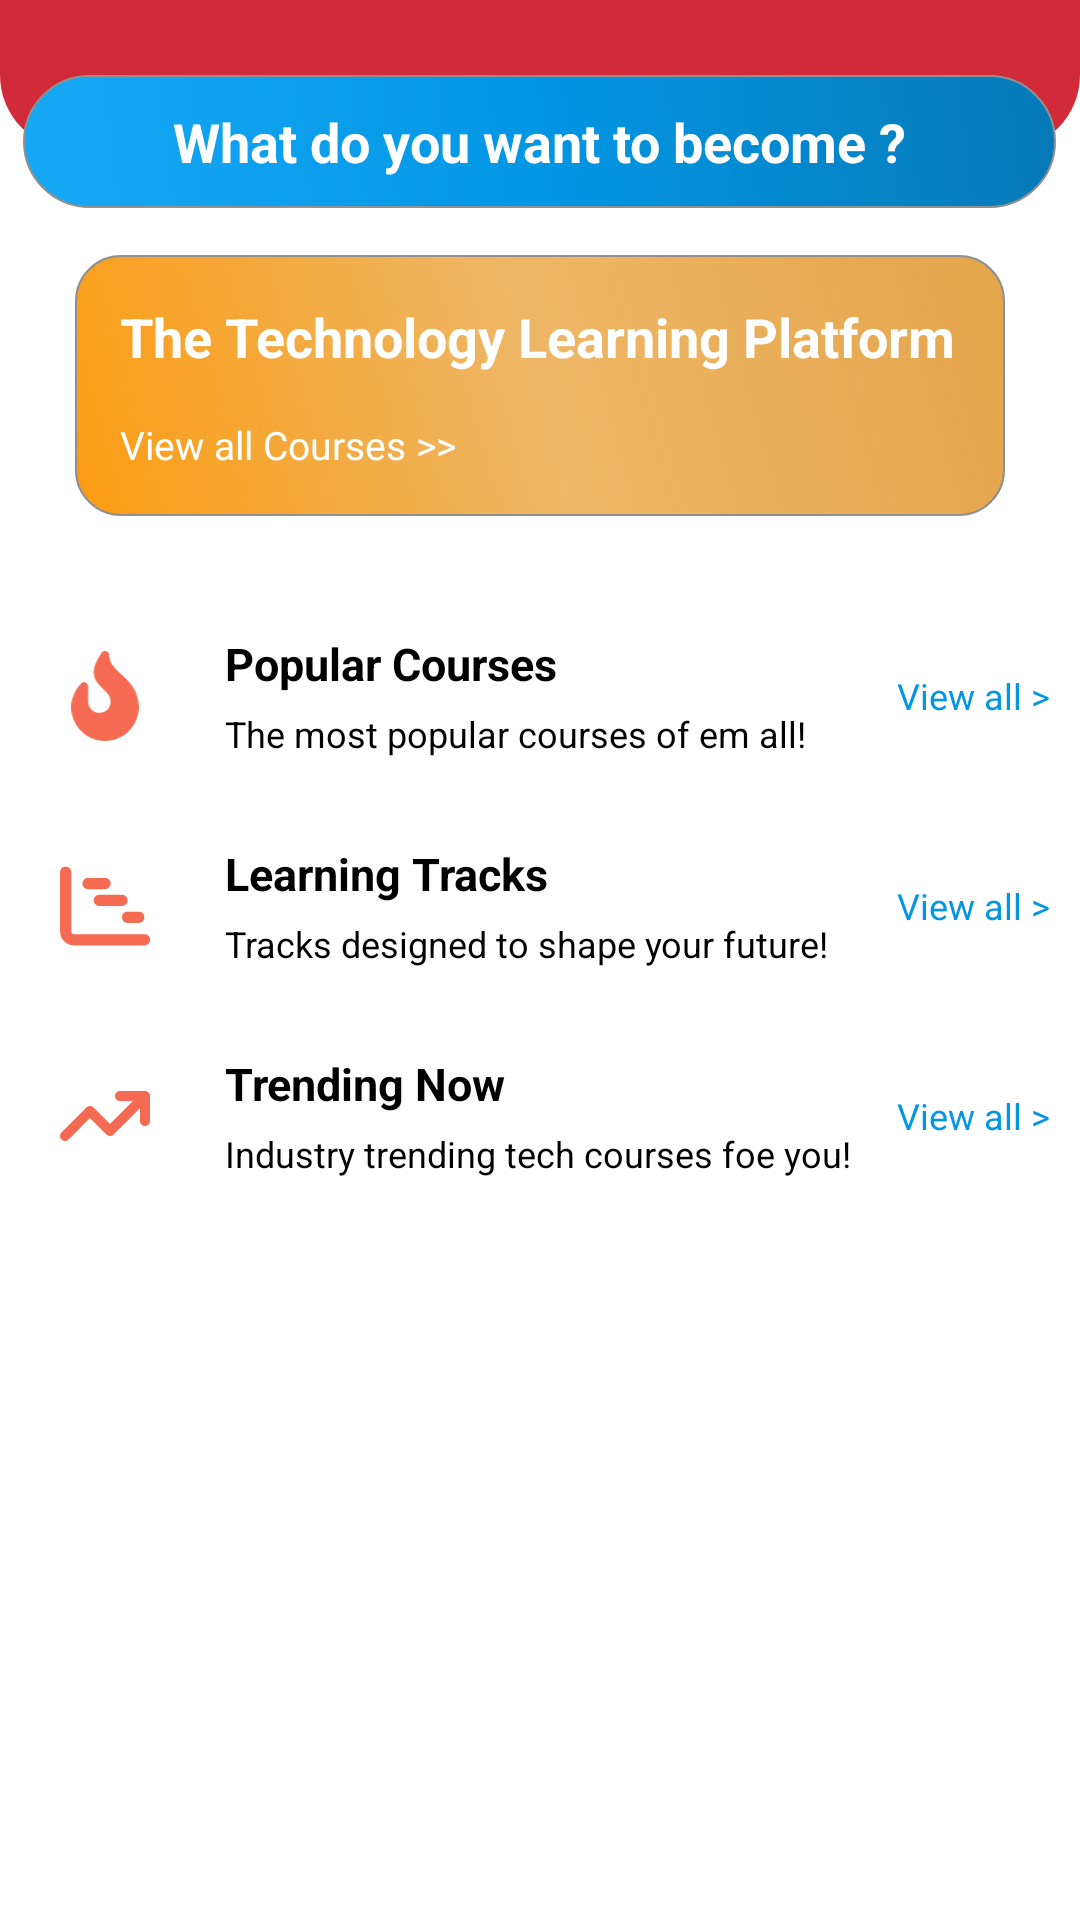

Locate icon controls on the screen. Image size 1080×1920, boxes as (x1, y1, x2, y2).
populer: (71, 651, 139, 741)
